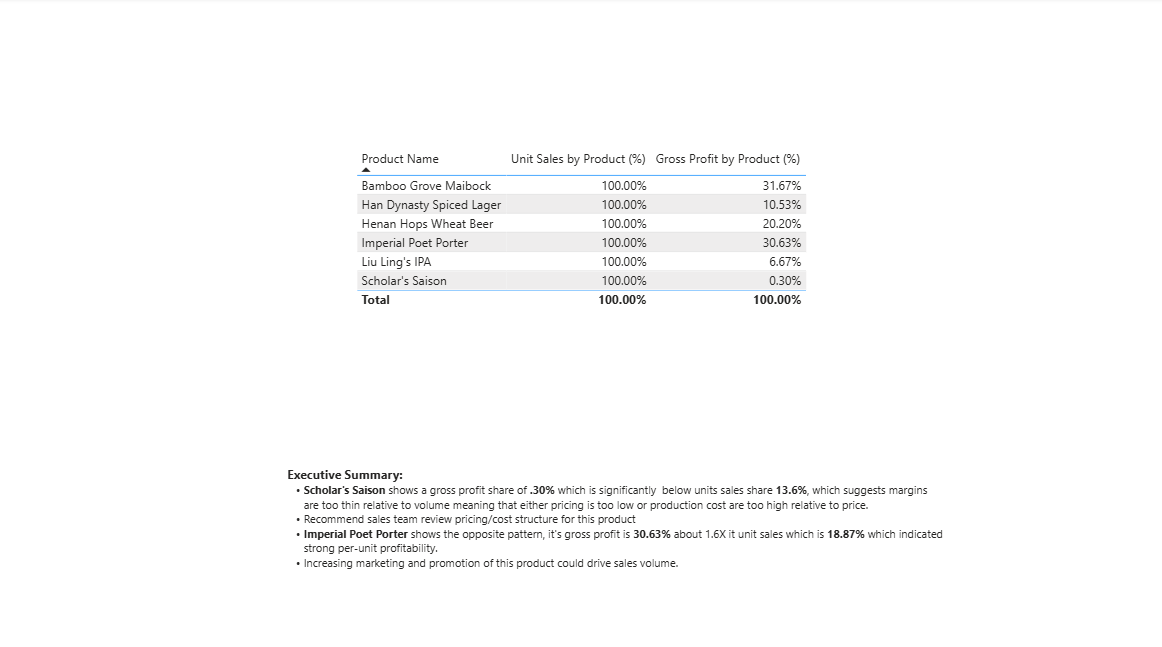

This screenshot's page, from the dashboard's own definition file:
{"tool":"powerbi","page":{"name":"Gross Profit and Unit Sales","canvas":[1280,720],"ordinal":1},"visuals":[{"type":"tableEx","fields":{"Values":["dim_products.product_name","measure.Unit Sales by Product (%)","measure.gross_profit_by_product"]},"box":[387.5,161.4,506.1,187],"z":0},{"type":"textbox","box":[311.7,511,732.2,138.1],"z":1000}]}

Visuals, with their boxes in screenshot pixels (x1, y1, x2, y2), scaled from the page's 1280x720 canvas onto the 1162x647 screenshot:
tableEx - dim_products.product_name x measure.Unit Sales by Product (%): [left=352, top=145, right=811, bottom=313]
textbox: [left=283, top=459, right=948, bottom=583]
